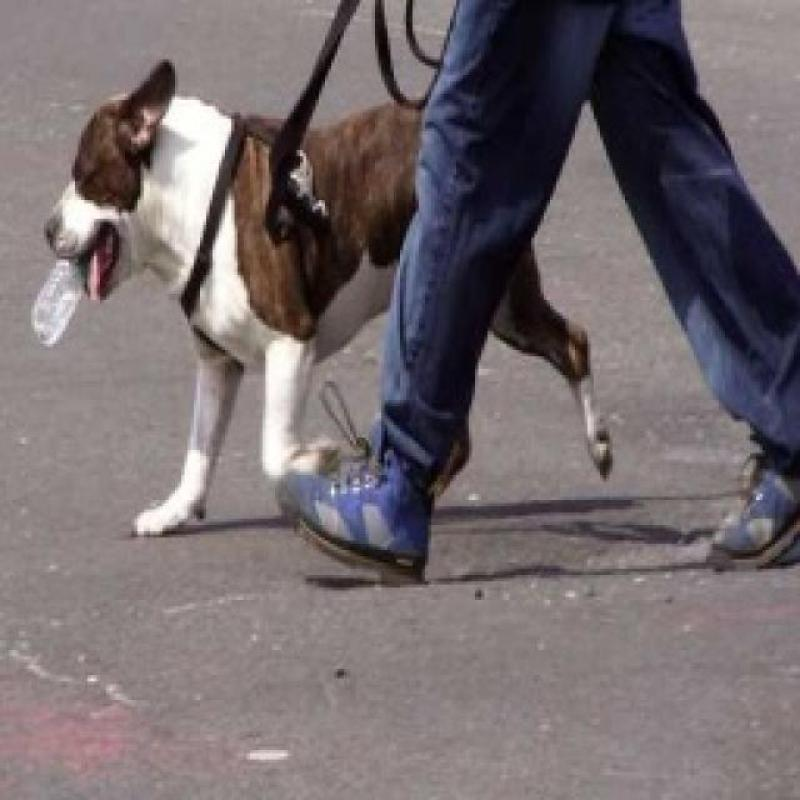botella: (26, 260, 86, 350)
